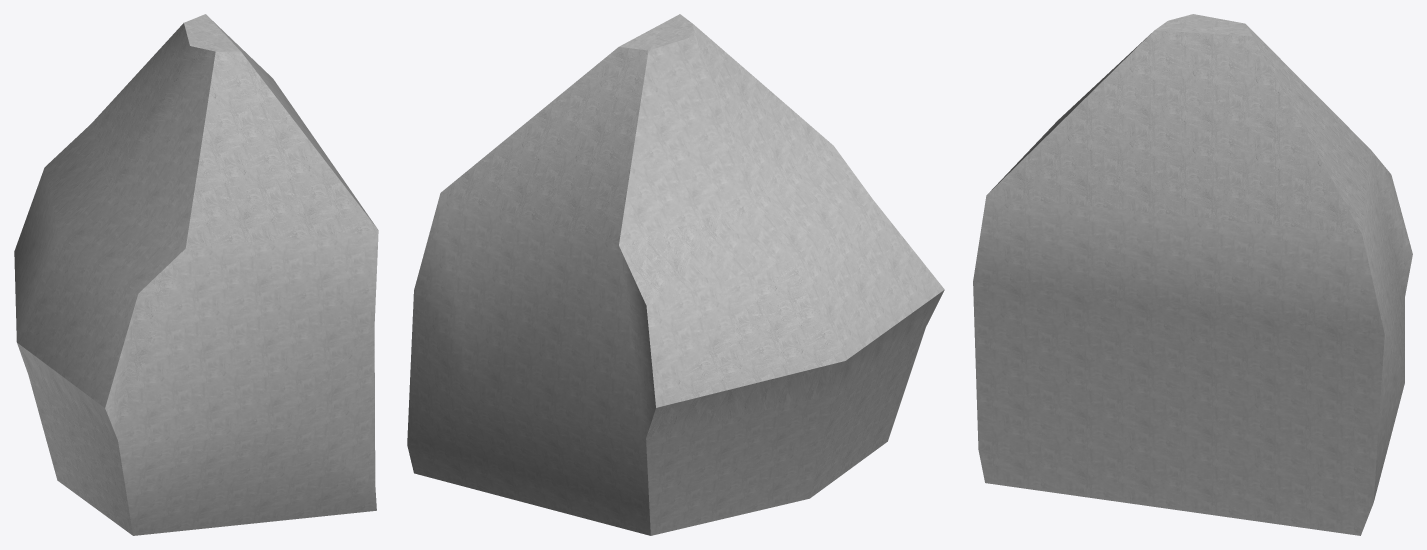
File: rock01.fbx
The picture shows the model from 3 angles, left to right: view 1: azimuth 30°, elevation 25°; view 2: azimuth 150°, elevation 25°; view 3: azimuth 270°, elevation 25°; orthographic projection. The views are drawn at different scales.
Visible parts, largest first — view 1: mesh_17; view 2: mesh_17; view 3: mesh_17.
Boxes of the visible parts, <box> form: mesh_17: <box>14,14,378,535</box>; mesh_17: <box>407,14,944,535</box>; mesh_17: <box>973,14,1412,535</box>.
Size of the model in its own units: 434 by 480 by 450.
Materials: 1 (1 with a texture image).
